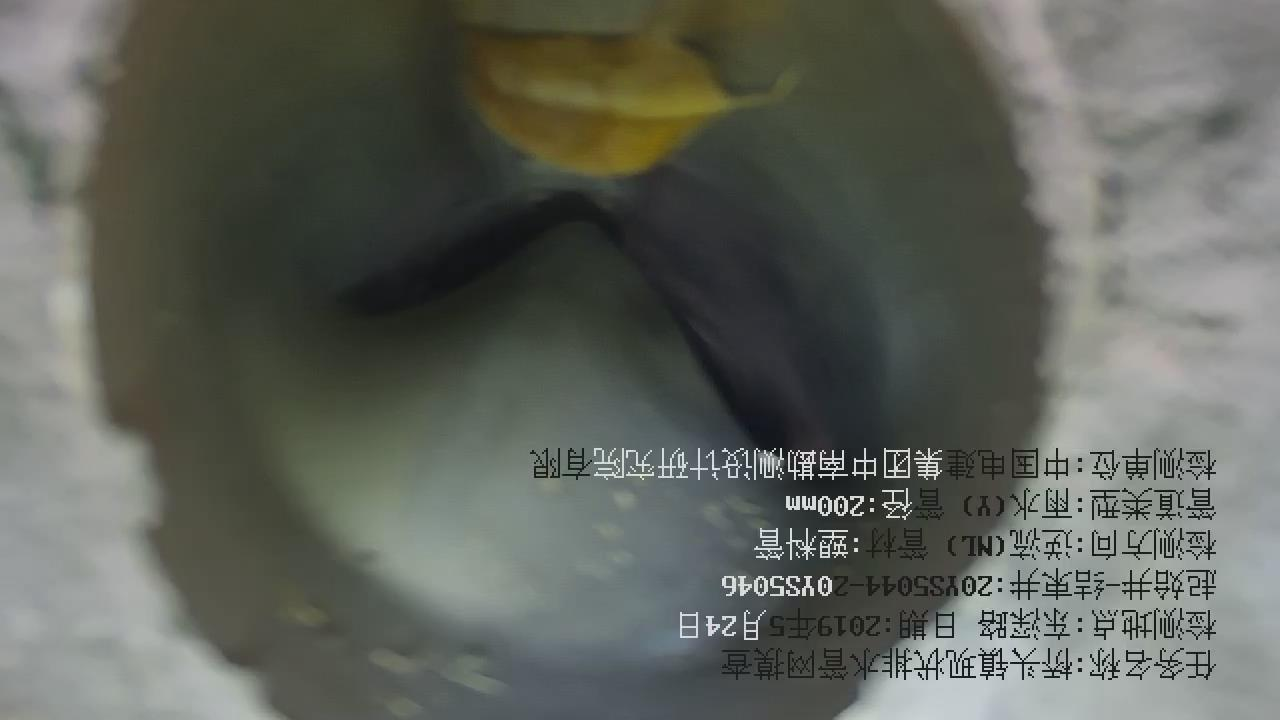BX: (258, 141, 842, 605)
